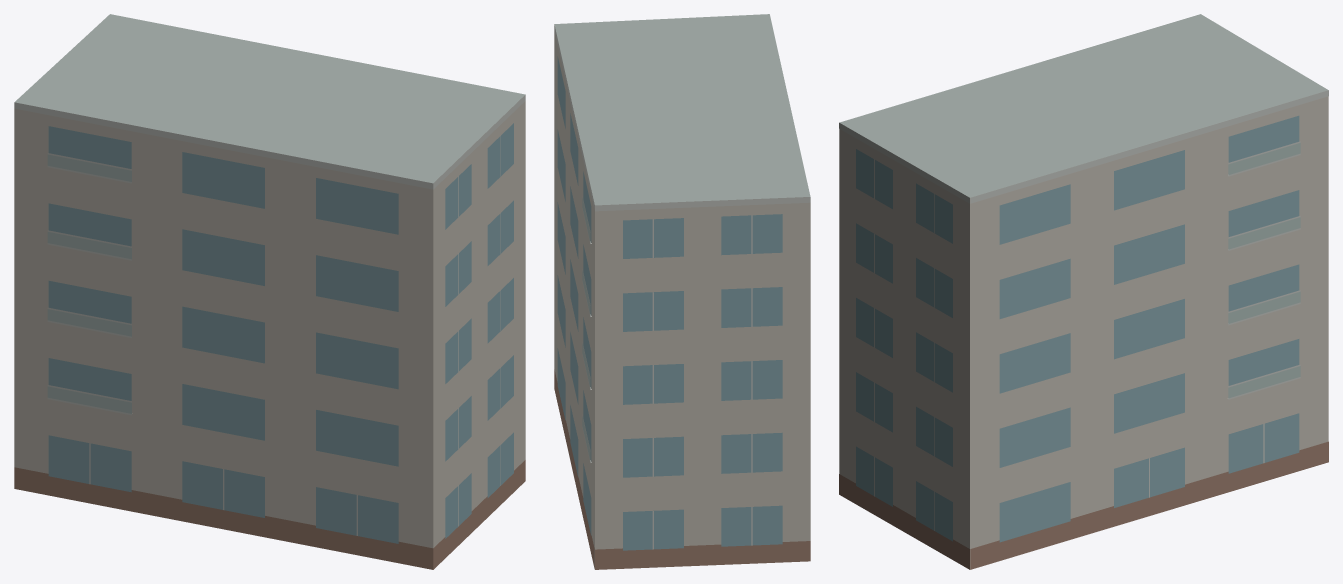
File: survey-upis-32996826.glb
3 views of the same model, side by side, from view 1: azimuth 30°, elevation 25°; view 2: azimuth 150°, elevation 25°; view 3: azimuth 270°, elevation 25° (orthographic). The views are drawn at different scales.
Visible parts, largest first — view 1: survey-upis-32996826.tmp; view 2: survey-upis-32996826.tmp; view 3: survey-upis-32996826.tmp.
Boxes of the visible parts, x1,y1,x2,y2 form: survey-upis-32996826.tmp: (14, 14, 525, 569); survey-upis-32996826.tmp: (554, 14, 810, 569); survey-upis-32996826.tmp: (839, 14, 1328, 569).
Bounding box in the file's own units: 16.01 × 15.1 × 18.02.
